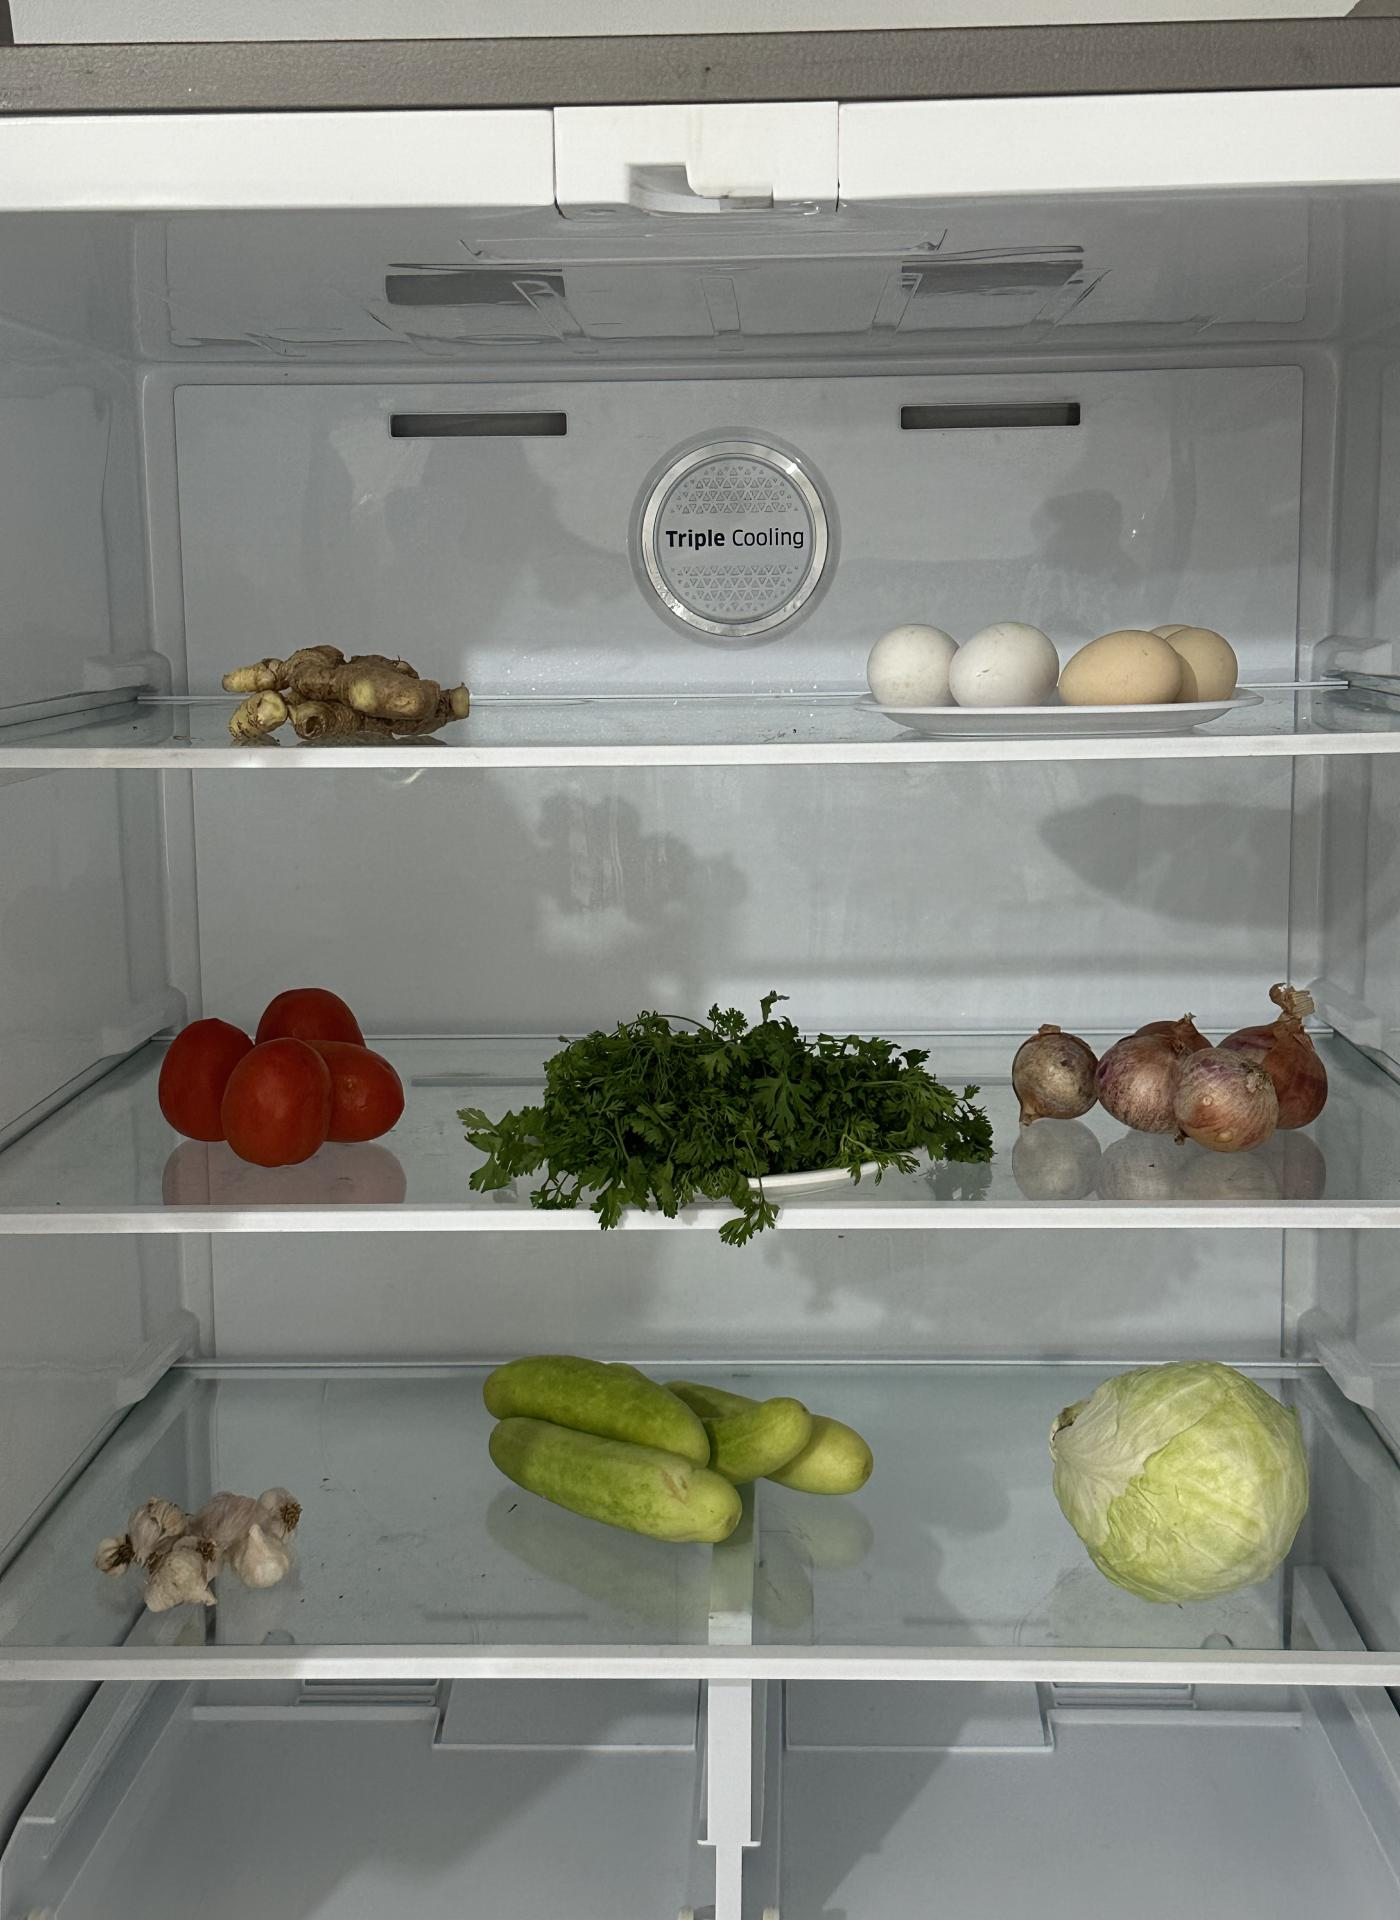cabbage: (1041, 1349, 1309, 1597)
coriander: (498, 1015, 986, 1201)
cucumber: (486, 1336, 877, 1546)
egg: (869, 608, 1236, 714)
garlic: (91, 1467, 306, 1614)
ginger: (215, 628, 485, 742)
onion: (1015, 1011, 1340, 1149)
tomato: (154, 978, 406, 1161)
